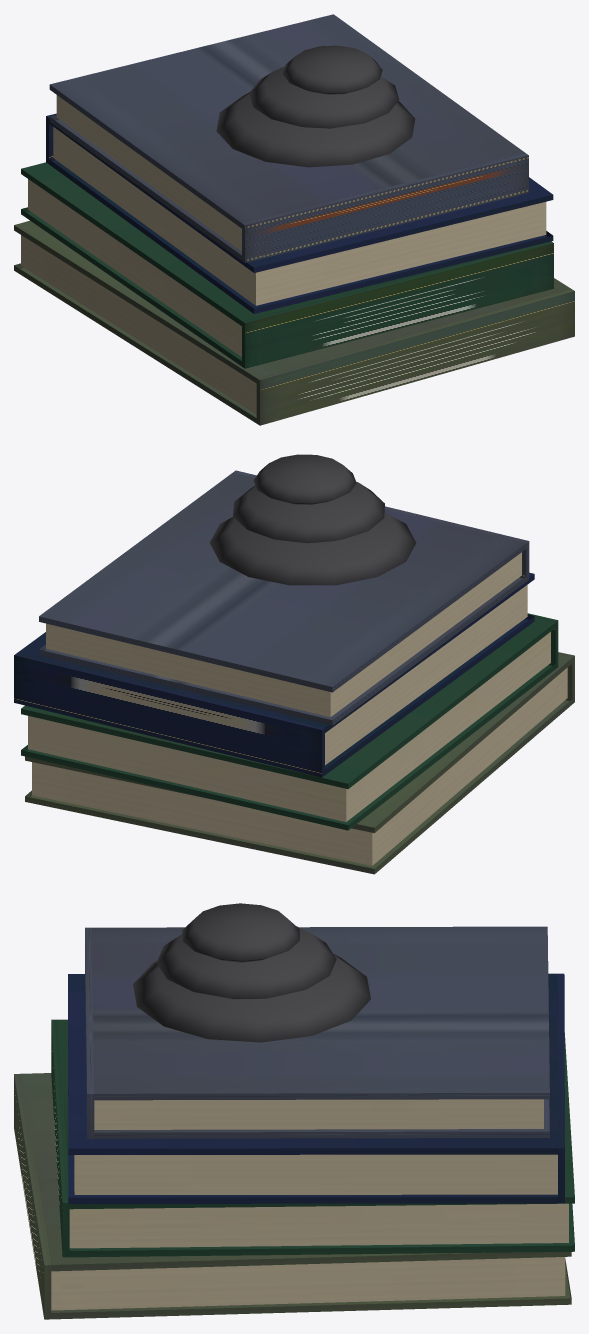
File: decor_c_books_c.gltf
3 views of the same model, one above another, from view 1: azimuth 30°, elevation 25°; view 2: azimuth 150°, elevation 25°; view 3: azimuth 270°, elevation 25° (orthographic). The views are drawn at different scales.
Parts seen in each view (by area): view 1: DecorC_BooksC_Book04_Spines_NoCollide, DecorC_BooksC_Book01_Spines_NoCollide, DecorC_BooksC_Book02_Spines_NoCollide, DecorC_BooksC_Book03_Spines_NoCollide, DecorC_BooksC_Ornament01_Charcoal_NoCollide; view 2: DecorC_BooksC_Book04_Spines_NoCollide, DecorC_BooksC_Book02_Spines_NoCollide, DecorC_BooksC_Book03_Spines_NoCollide, DecorC_BooksC_Book01_Spines_NoCollide, DecorC_BooksC_Ornament01_Charcoal_NoCollide; view 3: DecorC_BooksC_Book04_Spines_NoCollide, DecorC_BooksC_Book03_Spines_NoCollide, DecorC_BooksC_Book01_Spines_NoCollide, DecorC_BooksC_Book02_Spines_NoCollide, DecorC_BooksC_Ornament01_Charcoal_NoCollide.
Part boxes in pixels (bbox=[...]): DecorC_BooksC_Book04_Spines_NoCollide: bbox=[49, 14, 528, 262]; DecorC_BooksC_Book01_Spines_NoCollide: bbox=[14, 220, 574, 425]; DecorC_BooksC_Book02_Spines_NoCollide: bbox=[21, 162, 553, 368]; DecorC_BooksC_Book03_Spines_NoCollide: bbox=[46, 113, 553, 313]; DecorC_BooksC_Ornament01_Charcoal_NoCollide: bbox=[216, 45, 415, 167]; DecorC_BooksC_Book04_Spines_NoCollide: bbox=[39, 470, 529, 725]; DecorC_BooksC_Book02_Spines_NoCollide: bbox=[21, 613, 558, 830]; DecorC_BooksC_Book03_Spines_NoCollide: bbox=[14, 572, 534, 777]; DecorC_BooksC_Book01_Spines_NoCollide: bbox=[25, 652, 574, 874]; DecorC_BooksC_Ornament01_Charcoal_NoCollide: bbox=[209, 454, 416, 585]; DecorC_BooksC_Book04_Spines_NoCollide: bbox=[85, 926, 549, 1138]; DecorC_BooksC_Book03_Spines_NoCollide: bbox=[68, 973, 564, 1203]; DecorC_BooksC_Book01_Spines_NoCollide: bbox=[14, 1073, 571, 1319]; DecorC_BooksC_Book02_Spines_NoCollide: bbox=[51, 1019, 574, 1257]; DecorC_BooksC_Ornament01_Charcoal_NoCollide: bbox=[133, 903, 370, 1042].
Bounding box in the file's own units: 0.2432 × 0.1688 × 0.2796.
Materials: 2 (1 with a texture image).
